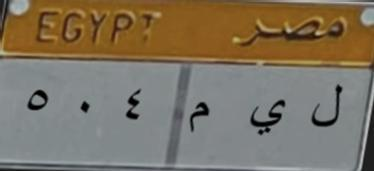0: (76, 91, 94, 123)
4: (122, 87, 146, 132)
5: (20, 84, 53, 121)
laam: (308, 78, 344, 136)
meem: (186, 97, 213, 144)
yaa: (246, 93, 288, 146)
